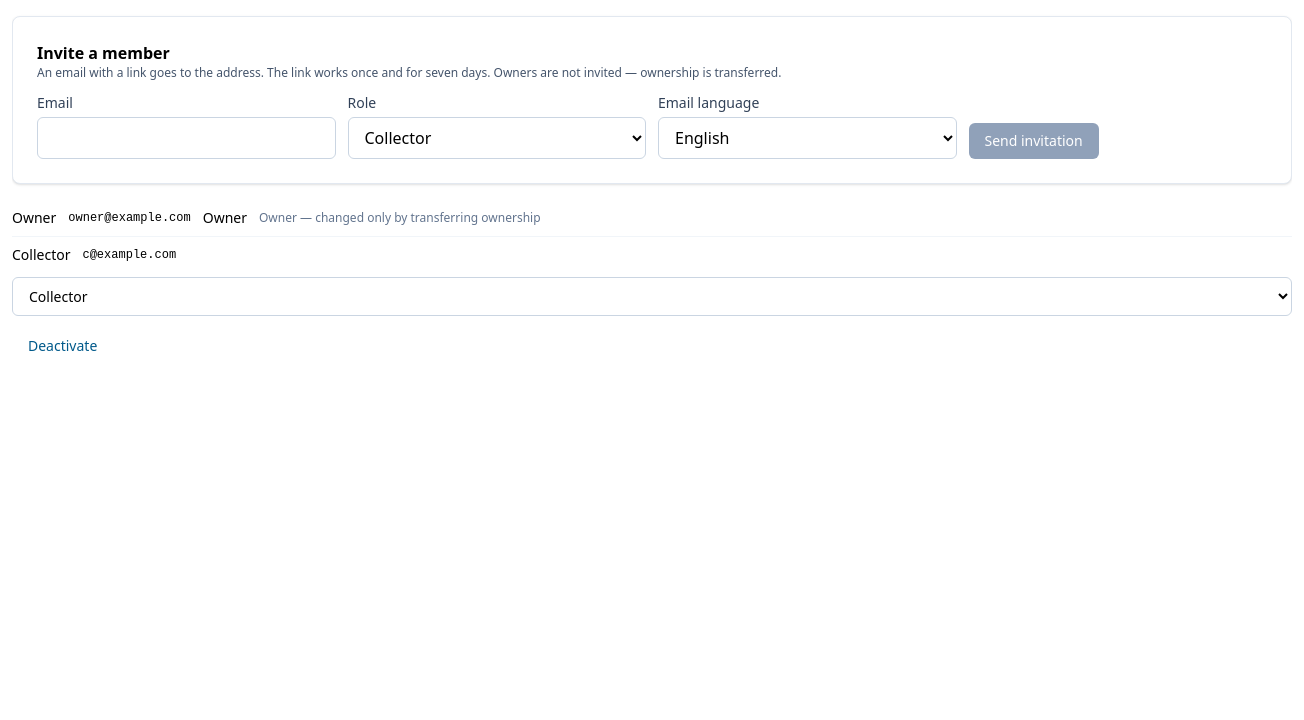
members (slice 12) › invites with a role that is never Owner, and shows the uniform confirmation
The width and height of the screenshot is (1304, 720).
Type "new@example.com" into the field with test id "invite-email" at point(186, 138), box [37,117,336,159]
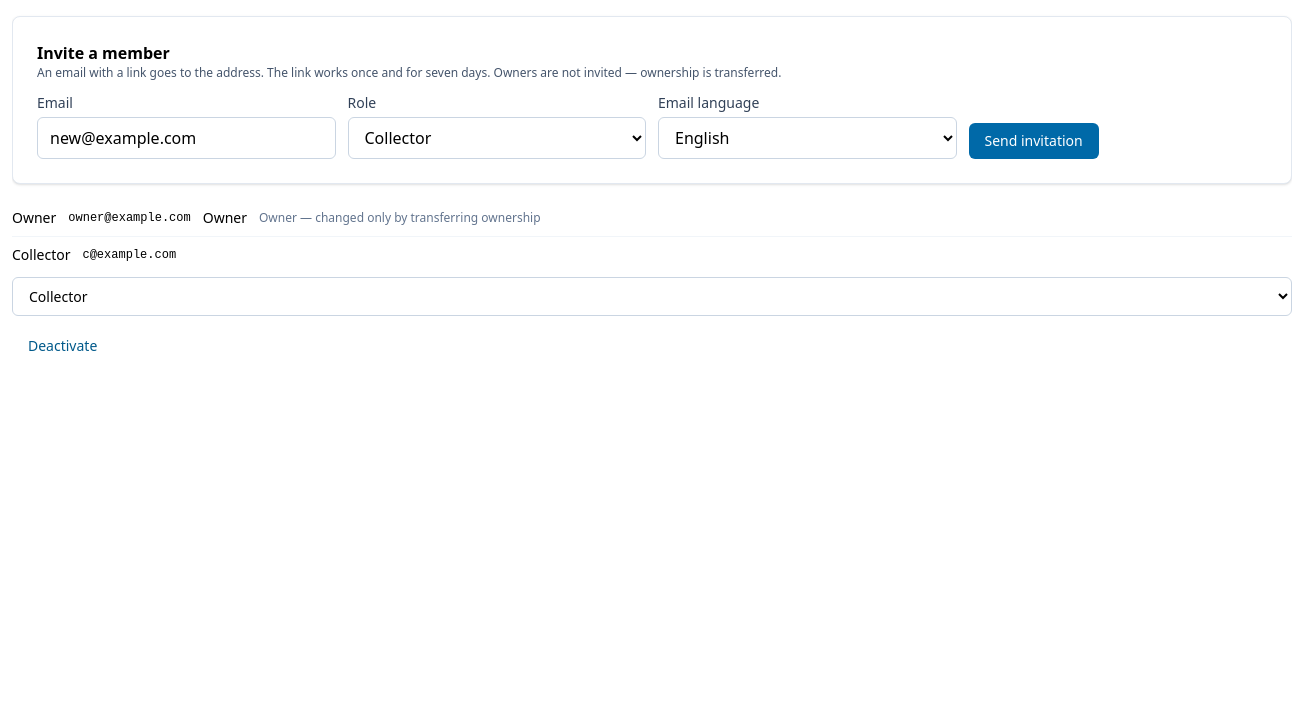
Select "Accountant" in the dropdown with test id "invite-role" at point(497, 138), box [348,117,646,159]
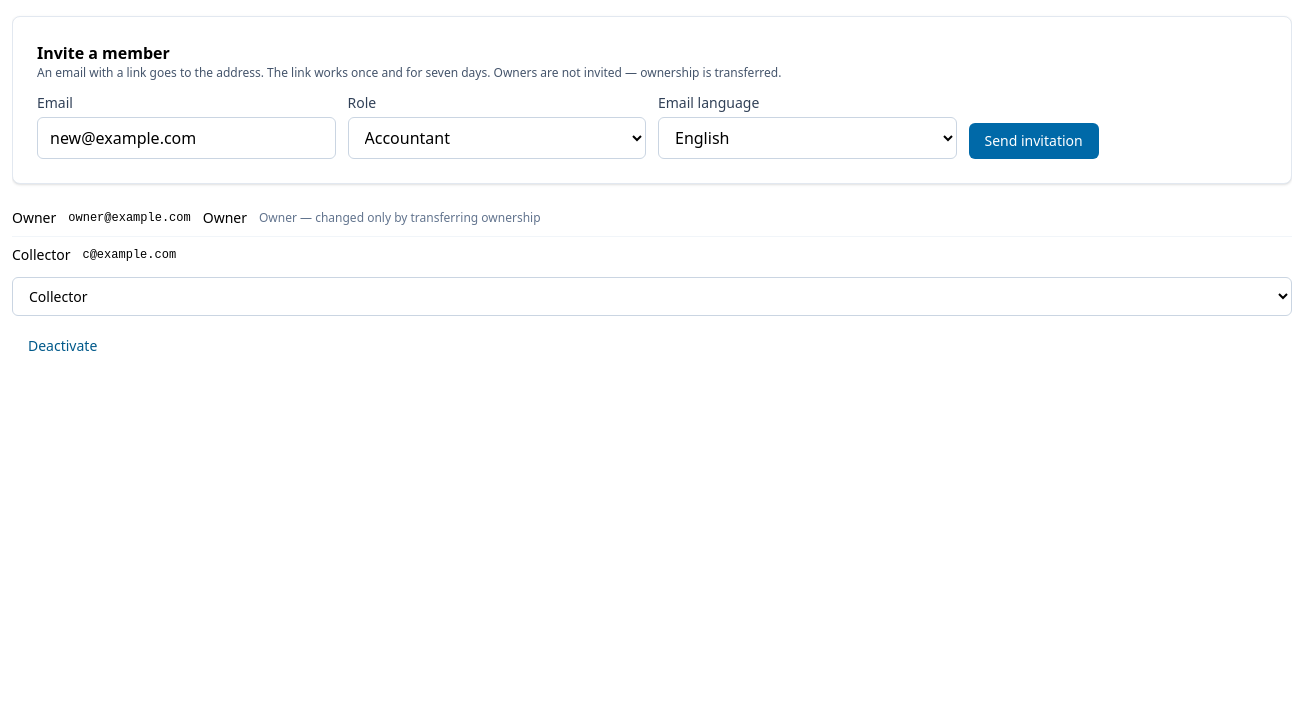
Click the button with test id "invite-submit" at point(1034, 141), box [968,123,1099,159]
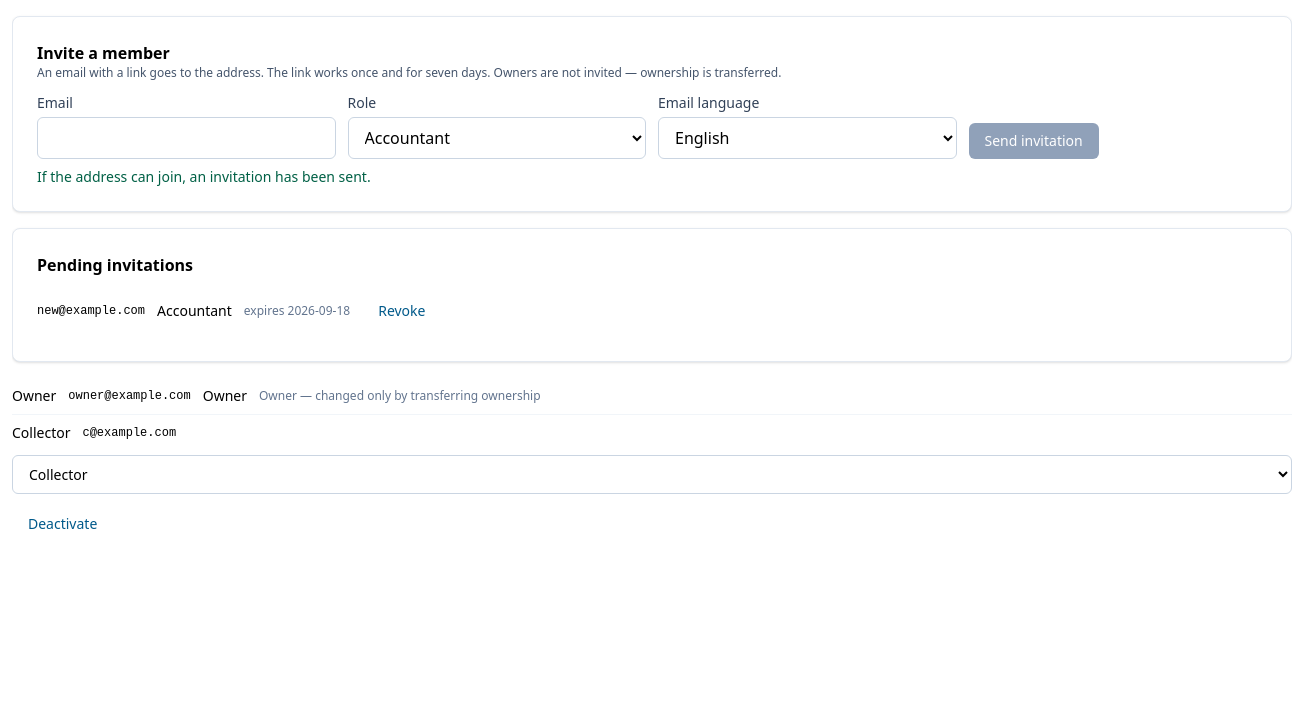
Expected: the text "If the address can join, an invitation has been sent." is shown, [37,167,371,186]
Expected: the list item with test id "invitation-row" is shown, [37,293,442,329]
Expected: the button with test id "revoke-invitation" is shown, [362,293,442,329]
